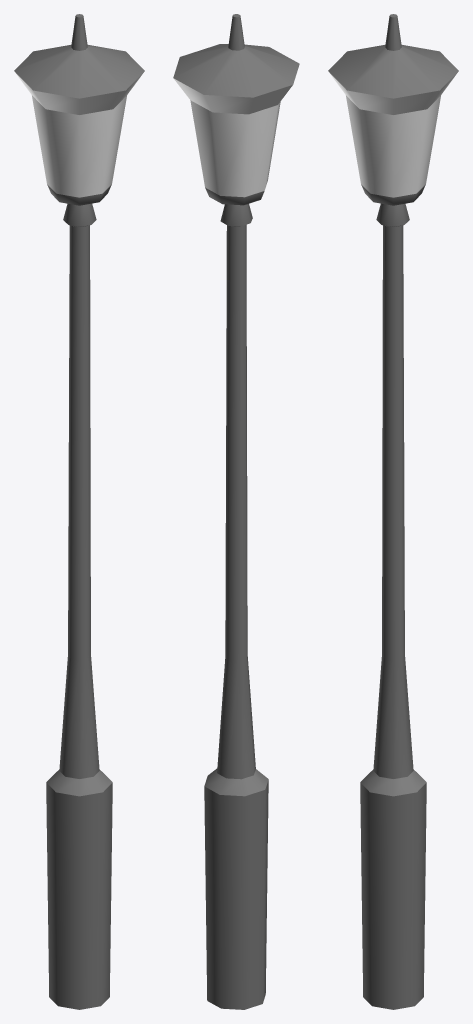
Rendered from street_props_outside_column_3.fbx.
3 views of the same model, side by side, from view 1: azimuth 90°, elevation 25°; view 2: azimuth 150°, elevation 25°; view 3: azimuth 270°, elevation 25° (orthographic).
Visible parts, largest first — view 1: column_3; view 2: column_3; view 3: column_3.
Boxes of the visible parts, left/top/right/bottom form: column_3: left=14, top=14, right=144, bottom=1009; column_3: left=173, top=14, right=299, bottom=1009; column_3: left=328, top=14, right=458, bottom=1009.
Bounding box in the file's own units: 73.67 × 609 × 73.67.
